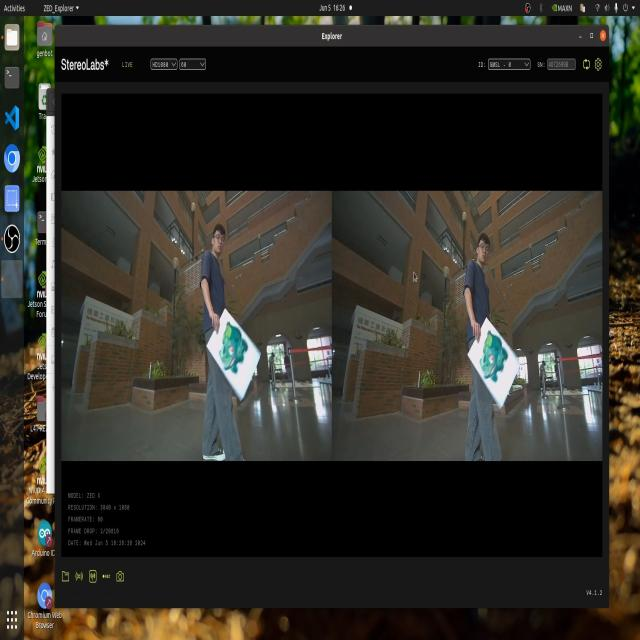green: (213, 316, 242, 380), (483, 322, 506, 387)
